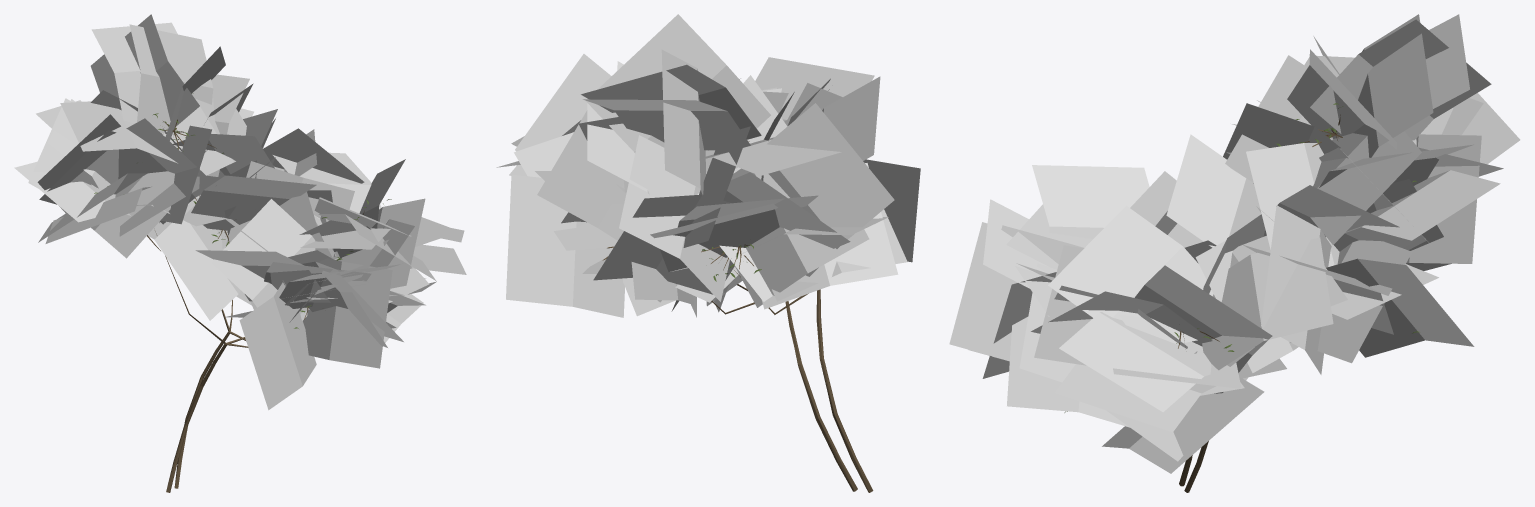
Rendered from Bruyere_Incline_LOD2.fbx.
3 renders of one model, left to right at view 1: azimuth 30°, elevation 25°; view 2: azimuth 150°, elevation 25°; view 3: azimuth 270°, elevation 25°, orthographic. The views are drawn at different scales.
Visible parts, largest first — view 1: Bruyere_Incline_LOD2; view 2: Bruyere_Incline_LOD2; view 3: Bruyere_Incline_LOD2.
Part boxes in pixels (bbox=[...]): Bruyere_Incline_LOD2: bbox=[14, 14, 466, 492]; Bruyere_Incline_LOD2: bbox=[496, 14, 920, 492]; Bruyere_Incline_LOD2: bbox=[949, 14, 1520, 492].
Size of the model in its own units: 286 by 295 by 298.
